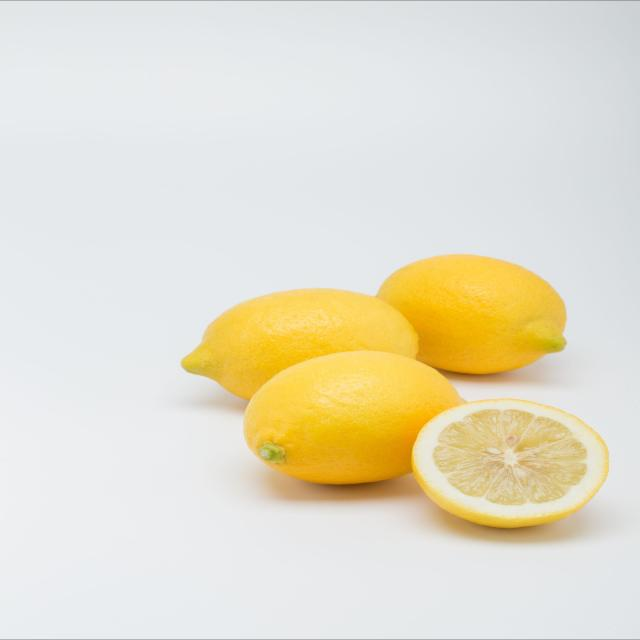lemon: (407, 395, 613, 532), (364, 250, 572, 379)
